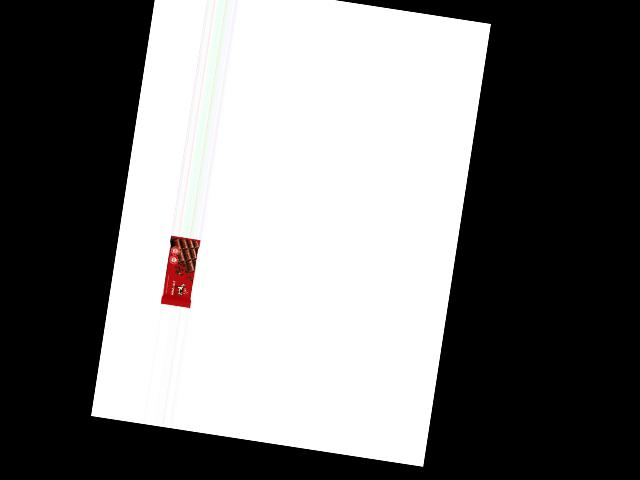chocolate: (160, 235, 200, 309)
